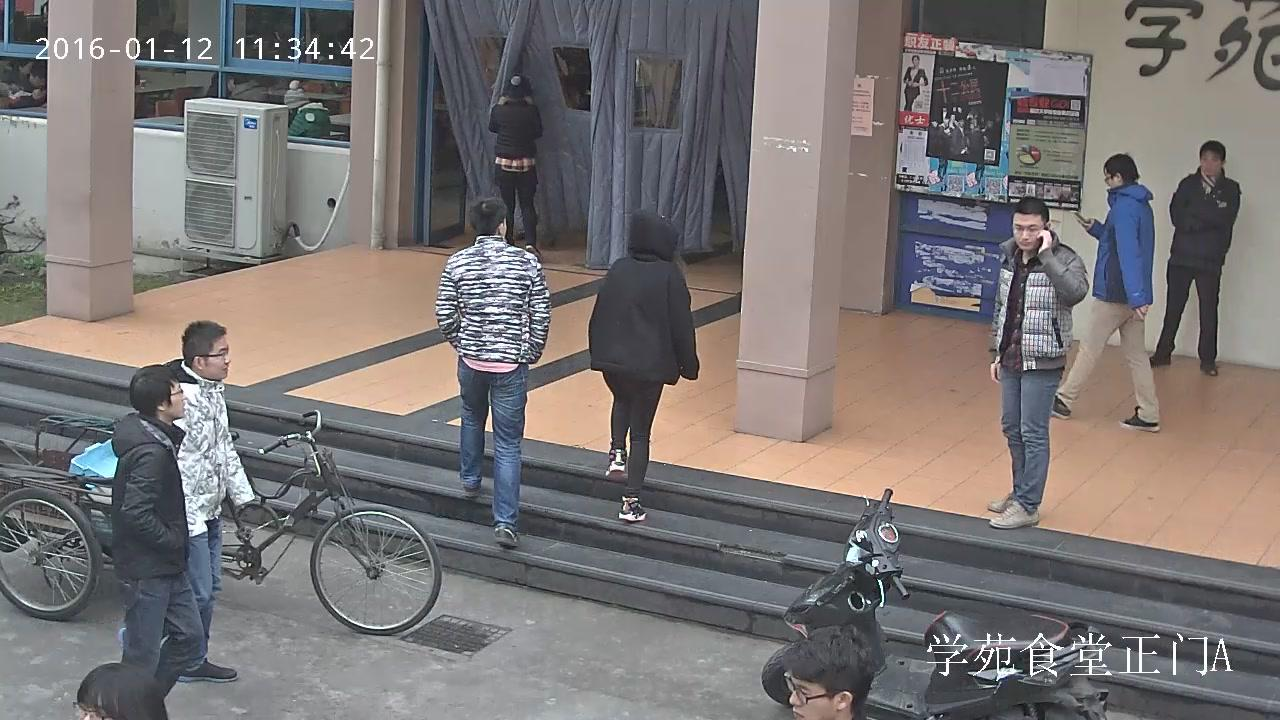person: (118, 319, 256, 682), (434, 196, 553, 547), (586, 211, 700, 522), (985, 196, 1089, 530), (108, 364, 207, 702), (1045, 152, 1162, 433), (1141, 139, 1241, 376), (488, 74, 545, 264), (283, 80, 331, 140), (7, 63, 46, 108), (902, 54, 928, 112)
